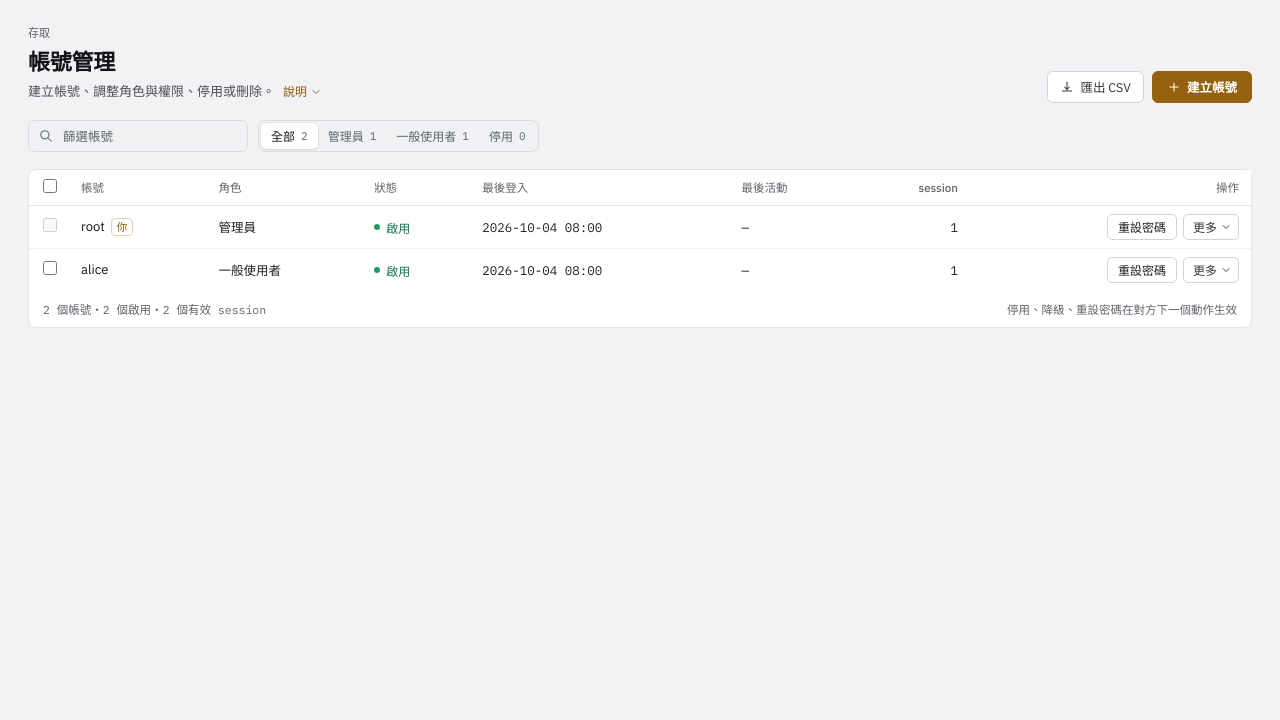
Scenario: 建立帳號：格式不符（帳號字元、密碼長度）先提示、不送出
Click the button "建立帳號": coordinates (1202, 87) x1=1152 y1=71 x2=1252 y2=103
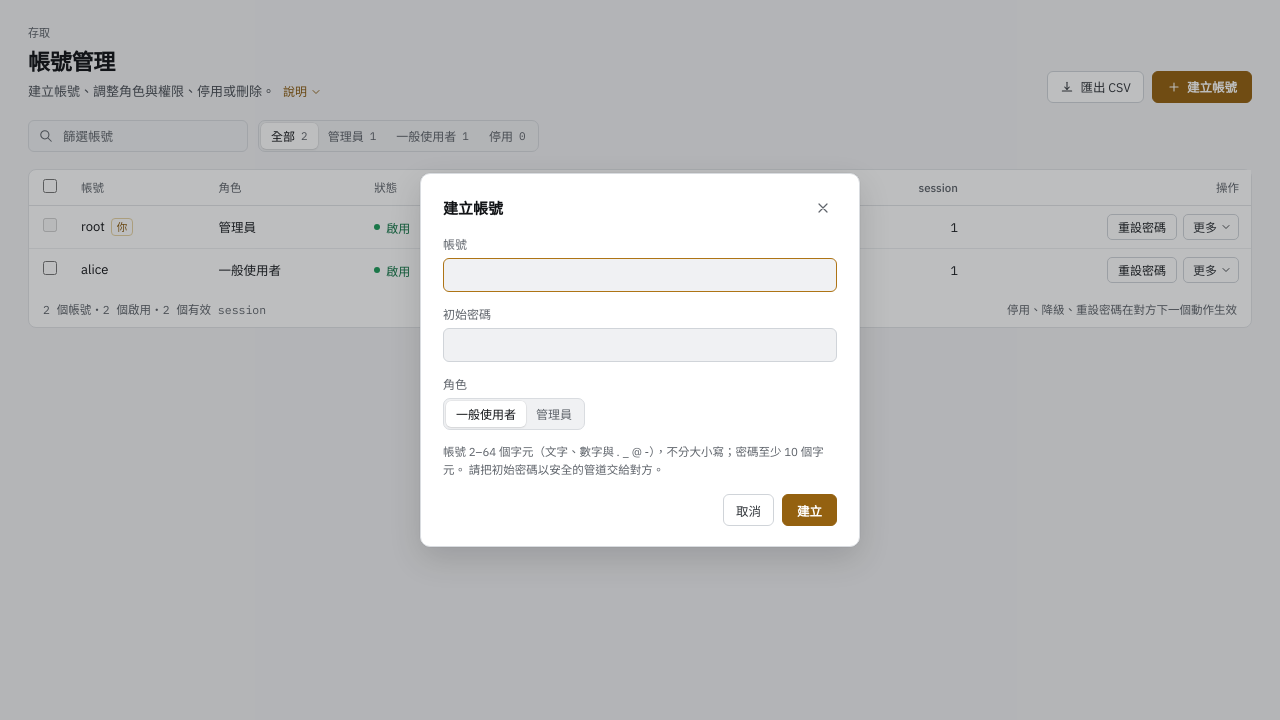
In the field labelled "帳號": coordinates (640, 275) x1=443 y1=258 x2=837 y2=292, type "bad name"
In the password field labelled "初始密碼": coordinates (640, 345) x1=443 y1=328 x2=837 y2=362, type "bob-password-1"
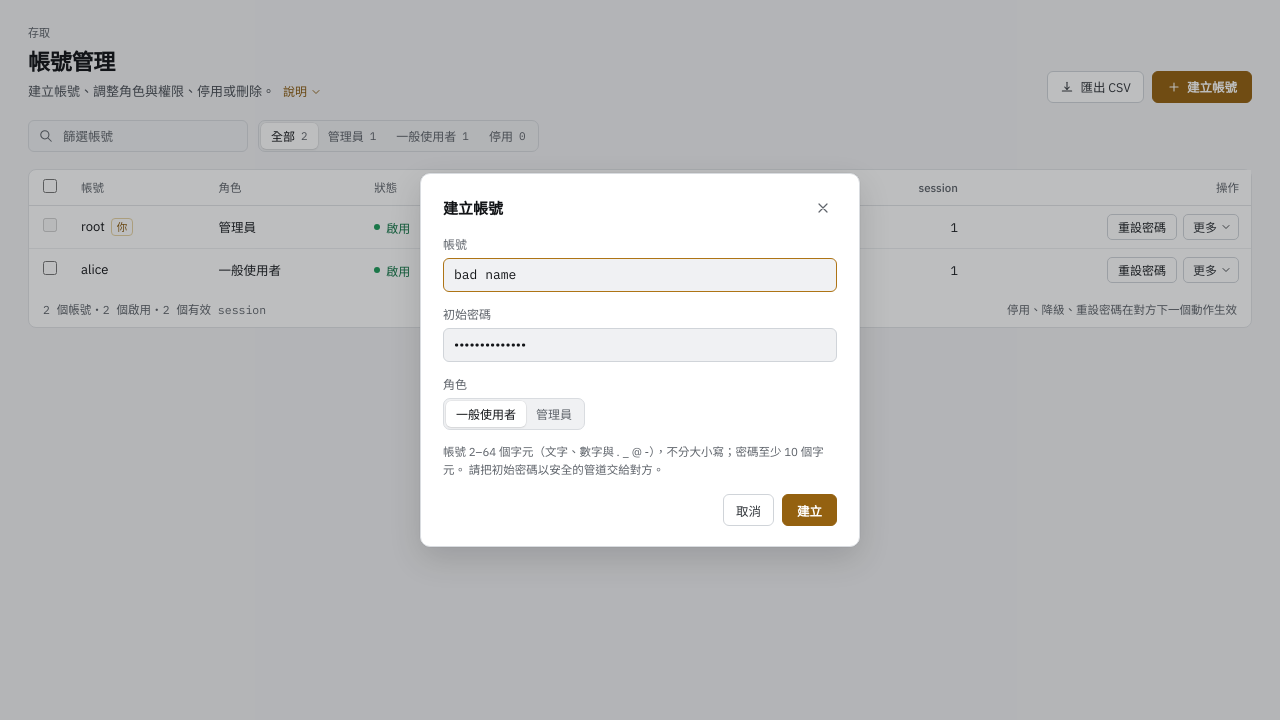
Click the button "建立": coordinates (810, 510) x1=782 y1=494 x2=837 y2=526
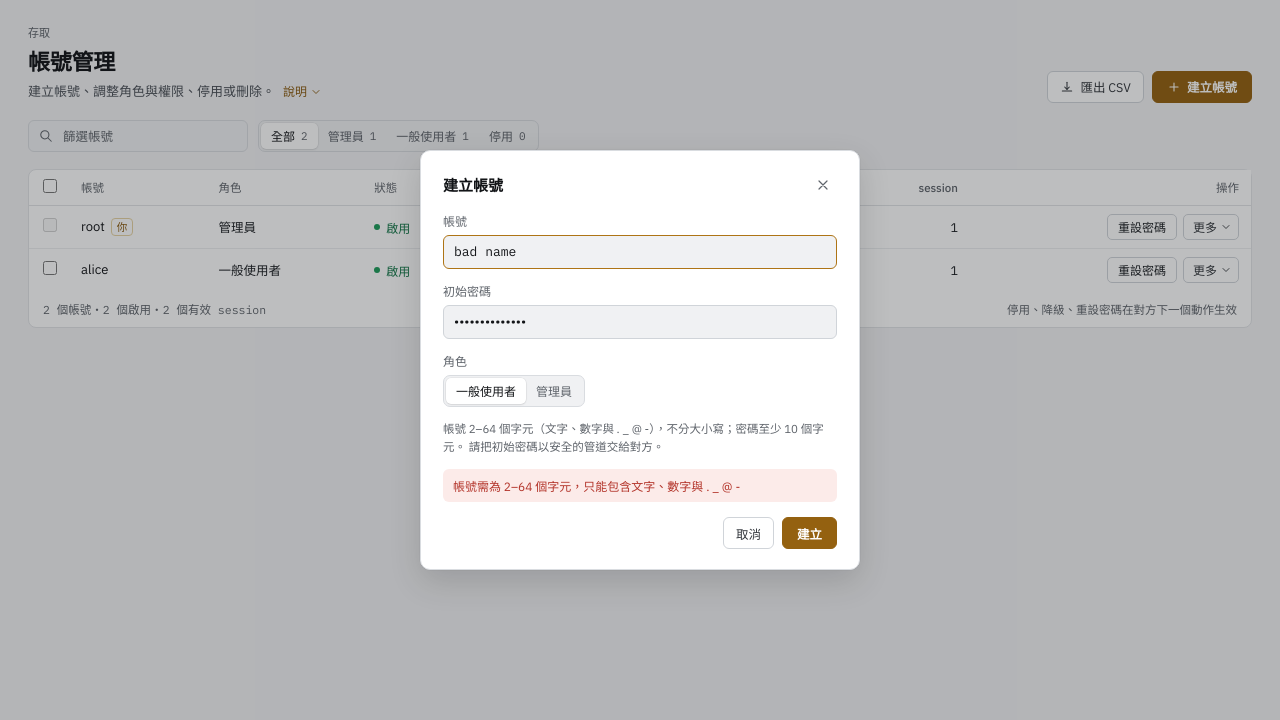
Now the message reads "帳號需為 2–64 個字元，只能包含文字、數字與 . _ @ -", box x1=453 y1=479 x2=740 y2=494
Replace the text in the field labelled "帳號" with "王小明.ops@tf-1": coordinates (640, 252) x1=443 y1=235 x2=837 y2=269
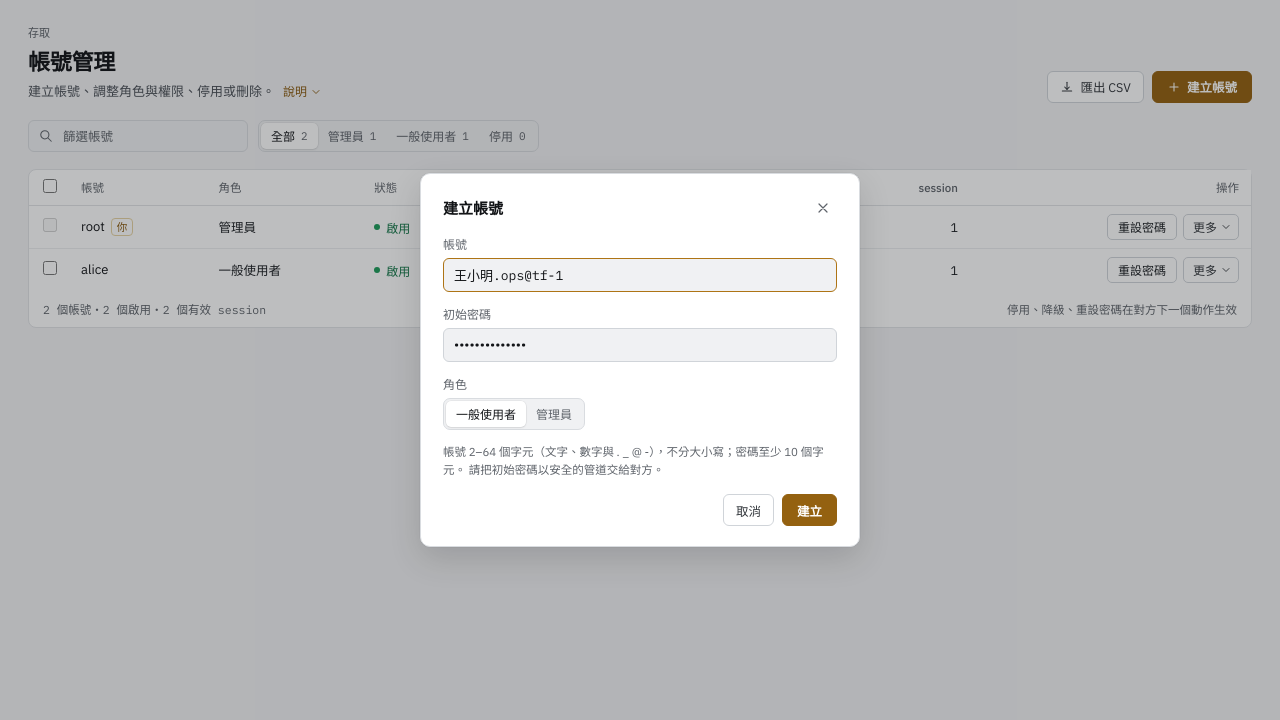
In the password field labelled "初始密碼": coordinates (640, 345) x1=443 y1=328 x2=837 y2=362, type "short"
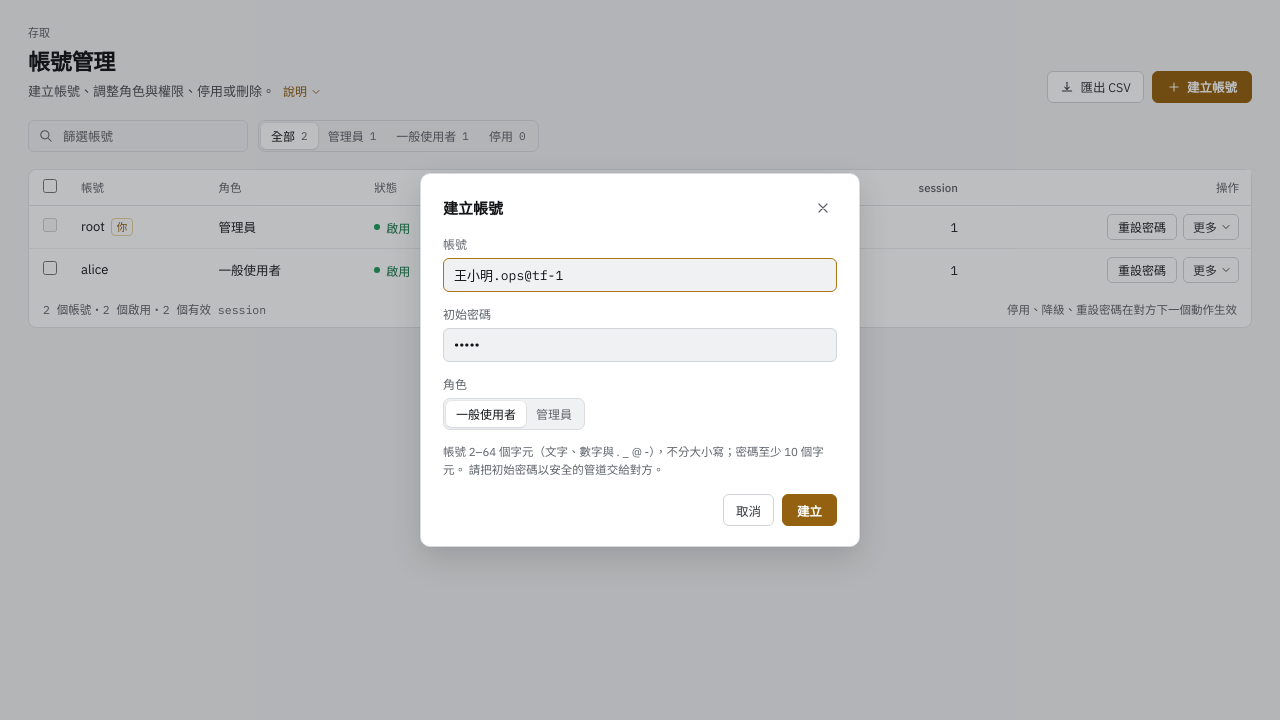
Click the button "建立": coordinates (810, 510) x1=782 y1=494 x2=837 y2=526
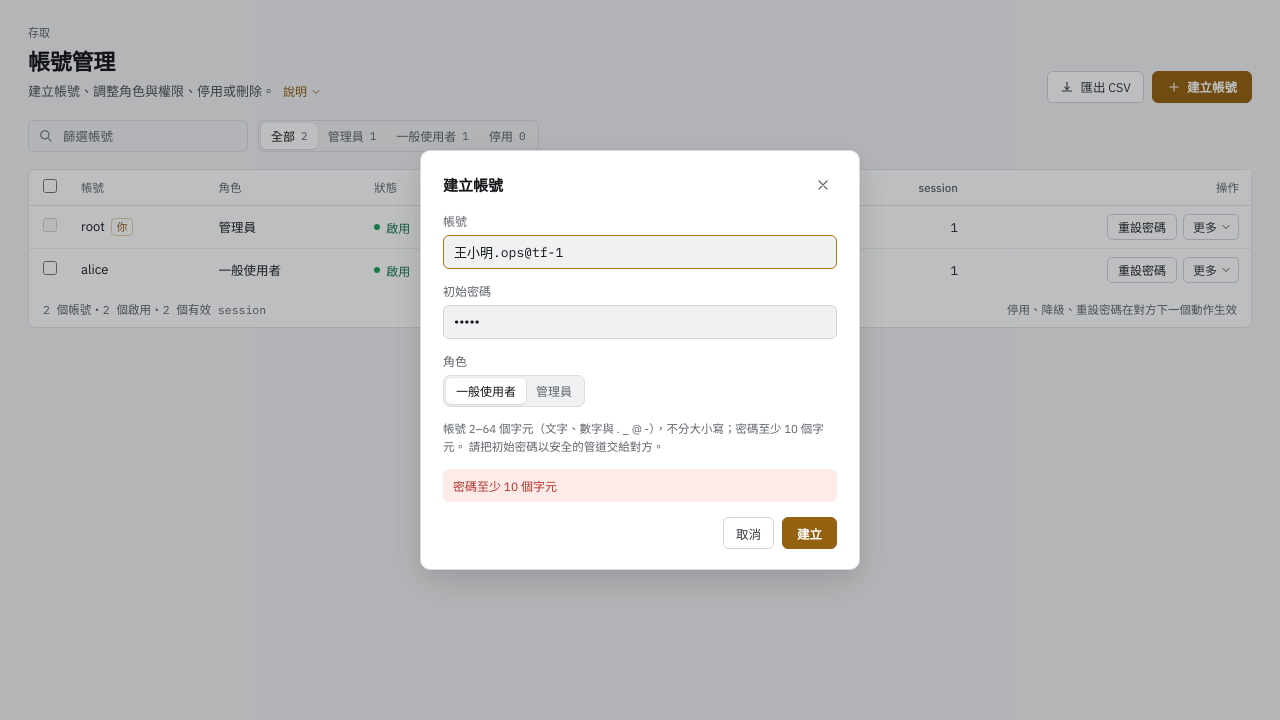
Now the message reads "密碼至少 10 個字元", box x1=453 y1=479 x2=557 y2=494
